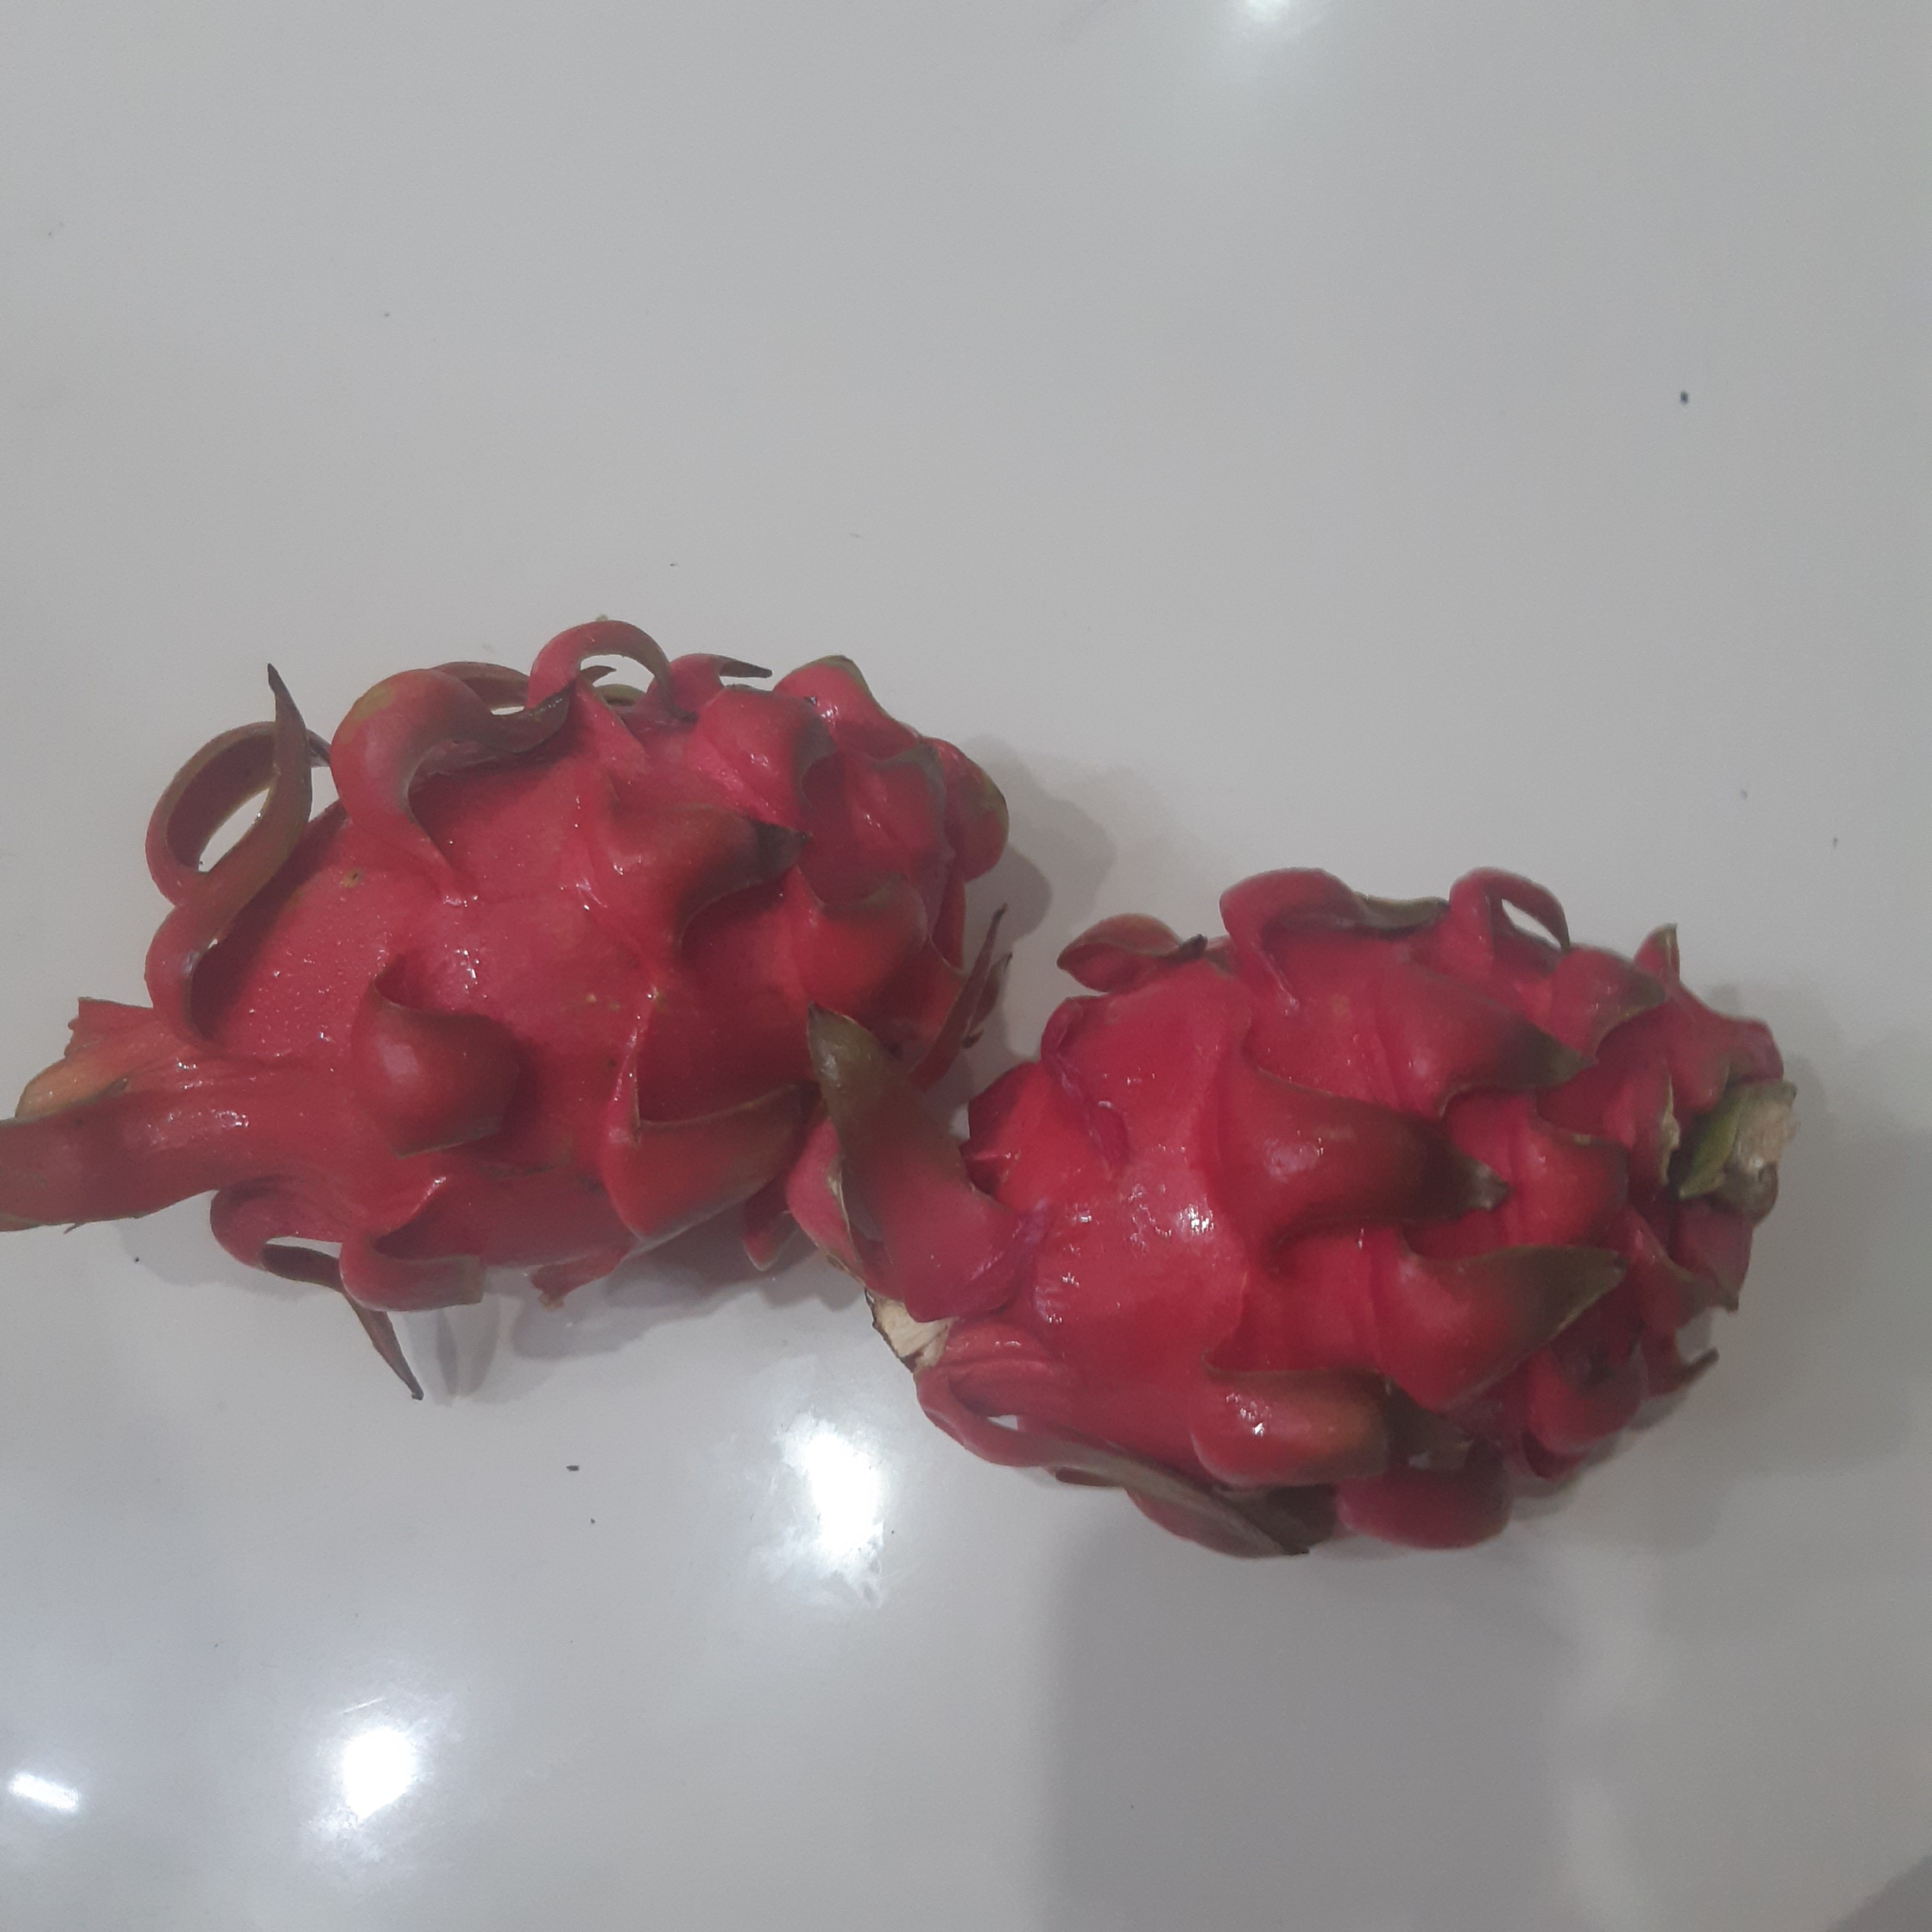Thanh long: (927, 881, 1798, 1562), (138, 686, 1003, 1300)
